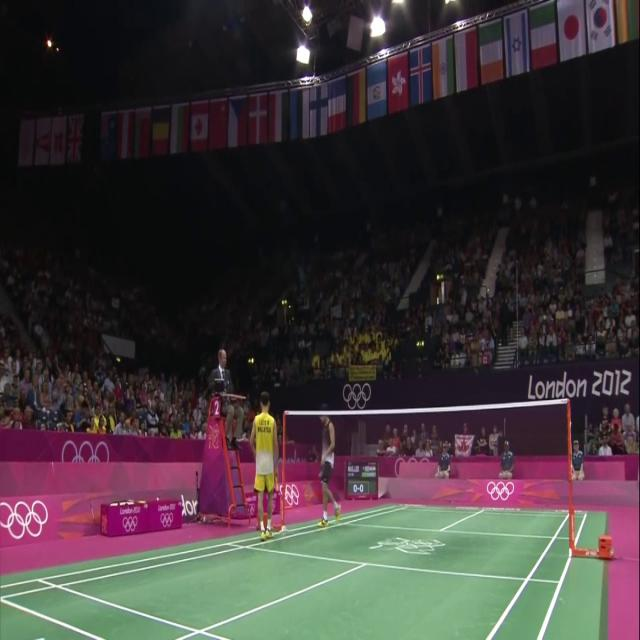Net: (285, 408, 572, 494)
Player1: (246, 389, 282, 552)
Player2: (312, 397, 342, 542)
Shuttlecock: (321, 445, 334, 470)
